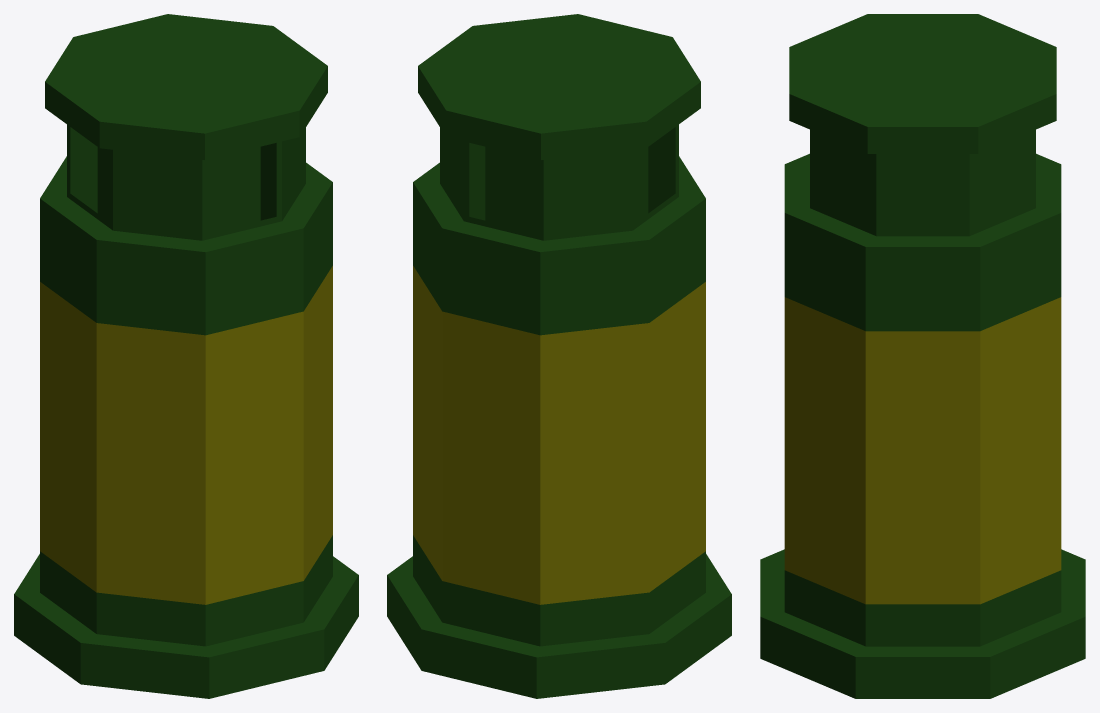
Rendered from Mailbox 2.fbx.
3 views of the same model, side by side, from view 1: azimuth 30°, elevation 25°; view 2: azimuth 150°, elevation 25°; view 3: azimuth 270°, elevation 25° (orthographic).
Parts seen in each view (by area): view 1: Mailbox 2; view 2: Mailbox 2; view 3: Mailbox 2.
Boxes of the visible parts, x1=… form: Mailbox 2: x1=14, y1=14, x2=358, y2=698; Mailbox 2: x1=387, y1=14, x2=731, y2=698; Mailbox 2: x1=760, y1=14, x2=1085, y2=698.
Size of the model in its own units: 0.4521 by 0.4521 by 0.8577.
